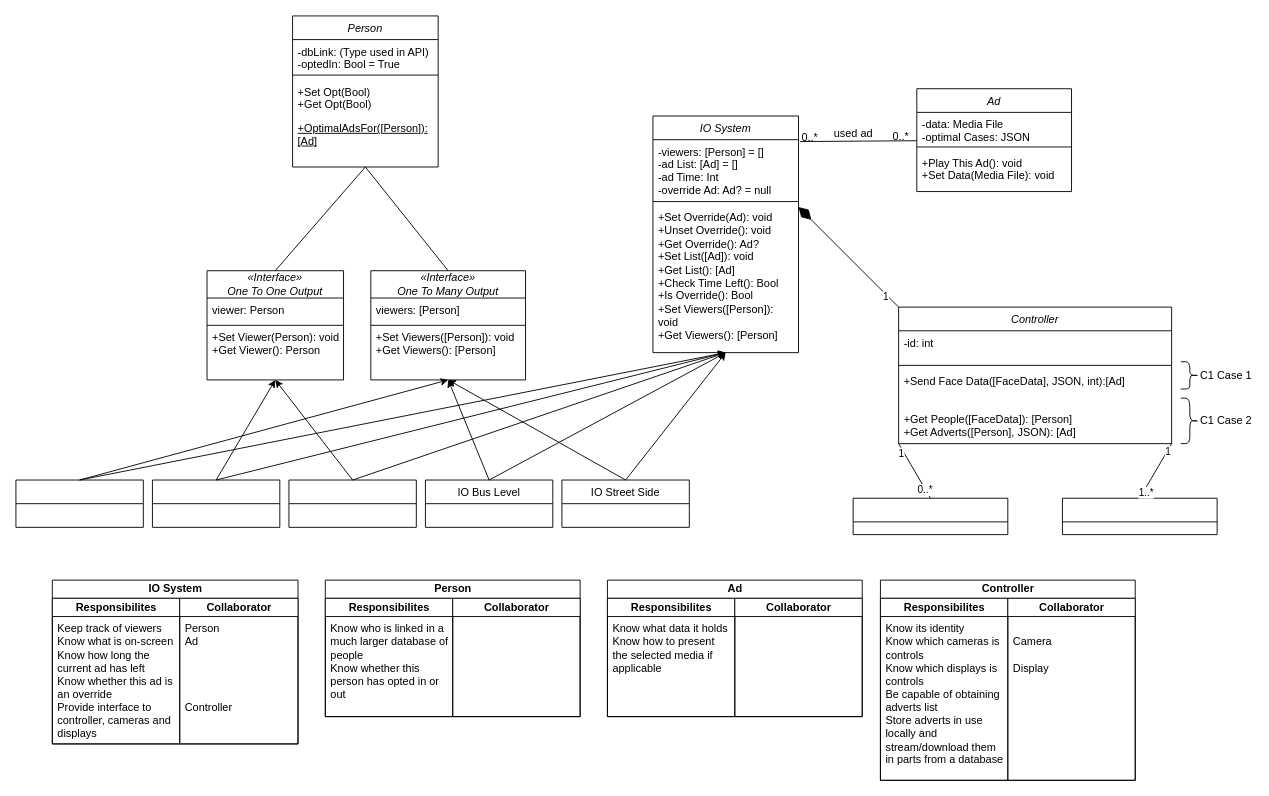
This 1269x796 diagram has some shape labels left out. Here are the shapes that lost their labels. From the top down, the centre of each, then its label:
At pixel 79 503: "IO Train Carraige".
At pixel 216 503: "IO Plane Seat".
At pixel 352 503: "IO Bus Seat".
At pixel 930 516: "Camera".
At pixel 1139 516: "Display".
